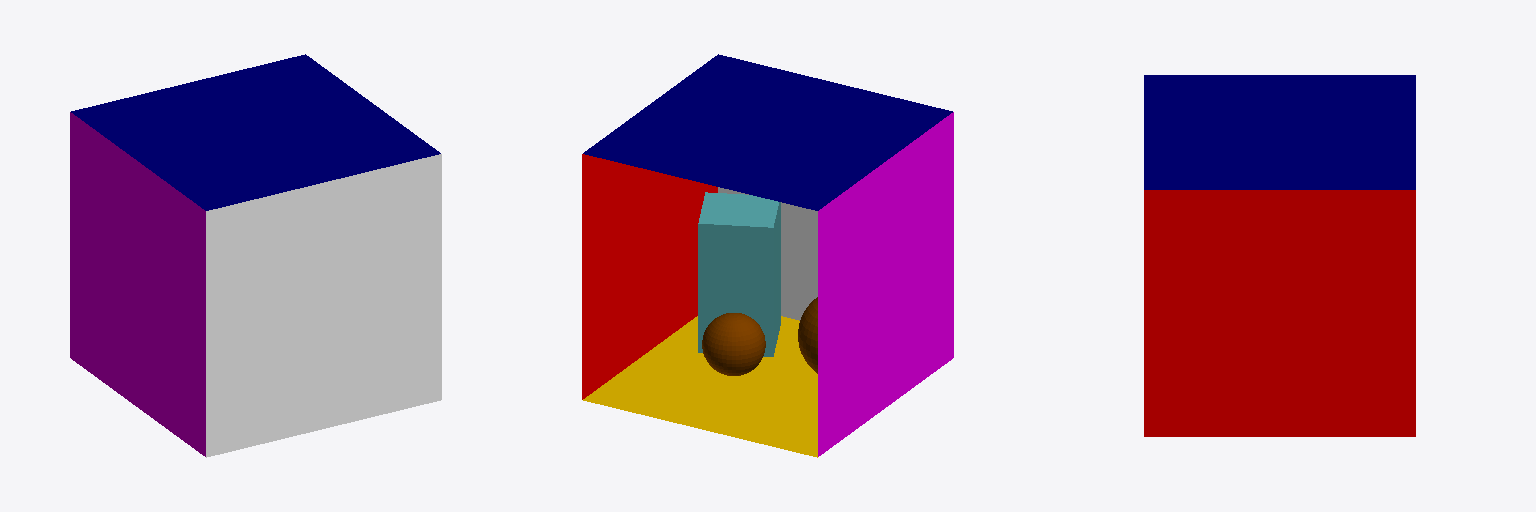
Rendered from room1h_sphereStd.obj.
3 renders of one model, left to right at view 1: azimuth 30°, elevation 25°; view 2: azimuth 150°, elevation 25°; view 3: azimuth 270°, elevation 25°, orthographic.
Parts seen in each view (by area): view 1: Box001; view 2: Box001; view 3: Box001.
Part boxes in pixels (x1,y1,x2,y2): Box001: (70,54,441,457); Box001: (582,54,953,457); Box001: (1144,75,1415,436).
Size of the model in its own units: 40 by 40 by 40.